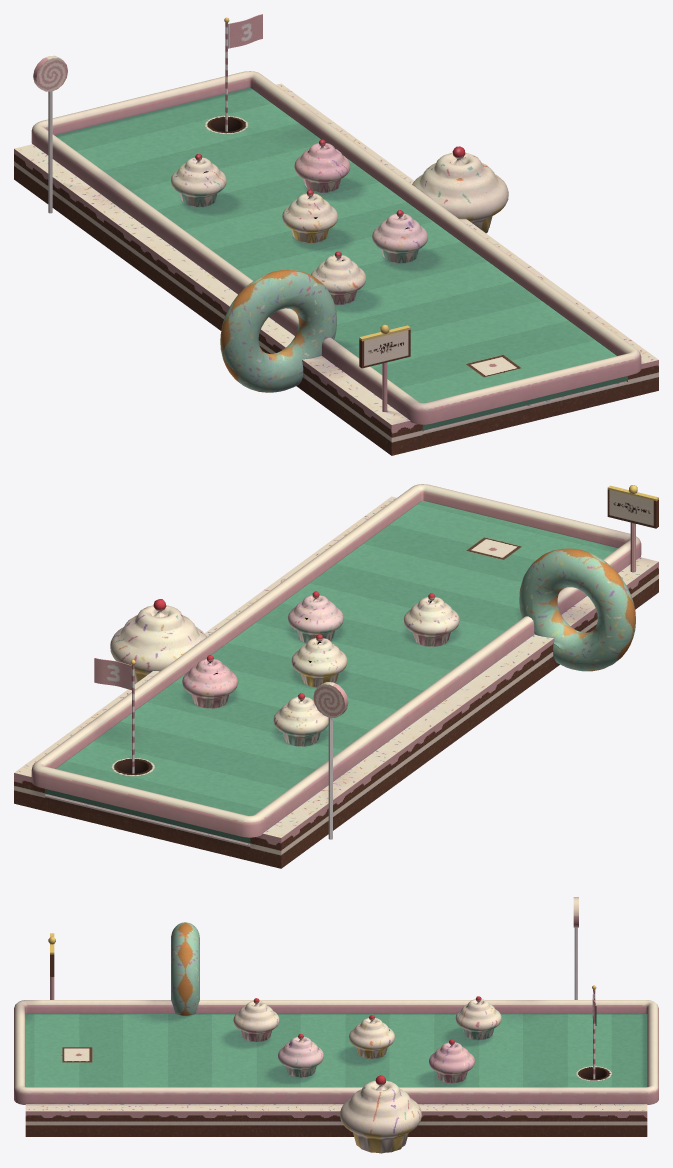
File: hole03.glb
3 views of the same model, one above another, from view 1: azimuth 30°, elevation 25°; view 2: azimuth 150°, elevation 25°; view 3: azimuth 270°, elevation 25° (orthographic). The views are drawn at different scales.
Parts seen in each view (by area): view 1: Green, Rails, Base, Decor1, Decor2, Cupcake2, Cupcake3, Cupcake4, Cupcake5, HoleSign, Cupcake1, Decor3 (+1 smaller); view 2: Green, Rails, Base, Decor1, Decor2, Cupcake4, Cupcake1, HoleSign, Cupcake3, Cupcake5, Cupcake2, Decor3 (+1 smaller); view 3: Green, Rails, Base, Decor2, Decor1, Cupcake2, Cupcake1, Cupcake4, Cupcake5, Cupcake3, Decor3.
Boxes of the visible parts, x1=… form: Green: x1=55, y1=88, x2=627, y2=430; Rails: x1=31, y1=71, x2=641, y2=424; Base: x1=14, y1=83, x2=658, y2=455; Decor1: x1=220, y1=269, x2=336, y2=392; Decor2: x1=412, y1=146, x2=508, y2=233; Cupcake2: x1=372, y1=210, x2=427, y2=263; Cupcake3: x1=282, y1=190, x2=338, y2=243; Cupcake4: x1=294, y1=139, x2=350, y2=192; Cupcake5: x1=170, y1=154, x2=226, y2=207; HoleSign: x1=359, y1=324, x2=410, y2=411; Cupcake1: x1=311, y1=251, x2=366, y2=304; Decor3: x1=33, y1=55, x2=67, y2=213; Green: x1=45, y1=501, x2=617, y2=843; Rails: x1=31, y1=484, x2=641, y2=837; Base: x1=14, y1=496, x2=658, y2=868; Decor1: x1=519, y1=548, x2=635, y2=671; Decor2: x1=110, y1=599, x2=206, y2=683; Cupcake4: x1=182, y1=655, x2=238, y2=708; Cupcake1: x1=403, y1=593, x2=459, y2=646; HoleSign: x1=607, y1=485, x2=658, y2=572; Cupcake3: x1=291, y1=634, x2=347, y2=687; Cupcake5: x1=273, y1=693, x2=328, y2=746; Cupcake2: x1=288, y1=591, x2=343, y2=643; Decor3: x1=313, y1=682, x2=348, y2=839; Green: x1=25, y1=1013, x2=647, y2=1087; Rails: x1=14, y1=1000, x2=658, y2=1104; Base: x1=25, y1=1104, x2=647, y2=1136; Decor2: x1=340, y1=1075, x2=421, y2=1153; Decor1: x1=171, y1=922, x2=199, y2=1015; Cupcake2: x1=278, y1=1034, x2=323, y2=1077; Cupcake1: x1=233, y1=998, x2=279, y2=1041; Cupcake4: x1=429, y1=1039, x2=474, y2=1083; Cupcake5: x1=455, y1=996, x2=501, y2=1039; Cupcake3: x1=349, y1=1015, x2=394, y2=1058; Decor3: x1=573, y1=897, x2=578, y2=999.
Size of what is drawn, in the model's own units: 4.26 by 1.6 by 7.26.
1 material, 1 textured.
